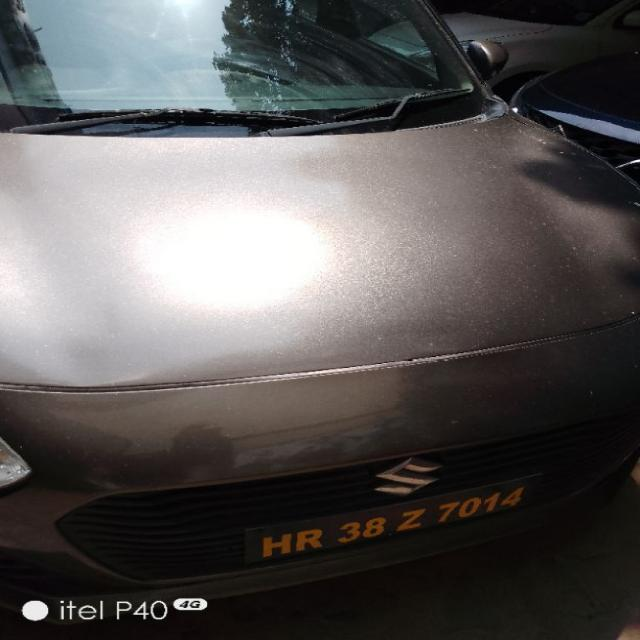license_plate: (1, 1, 638, 624), (240, 473, 536, 566)
